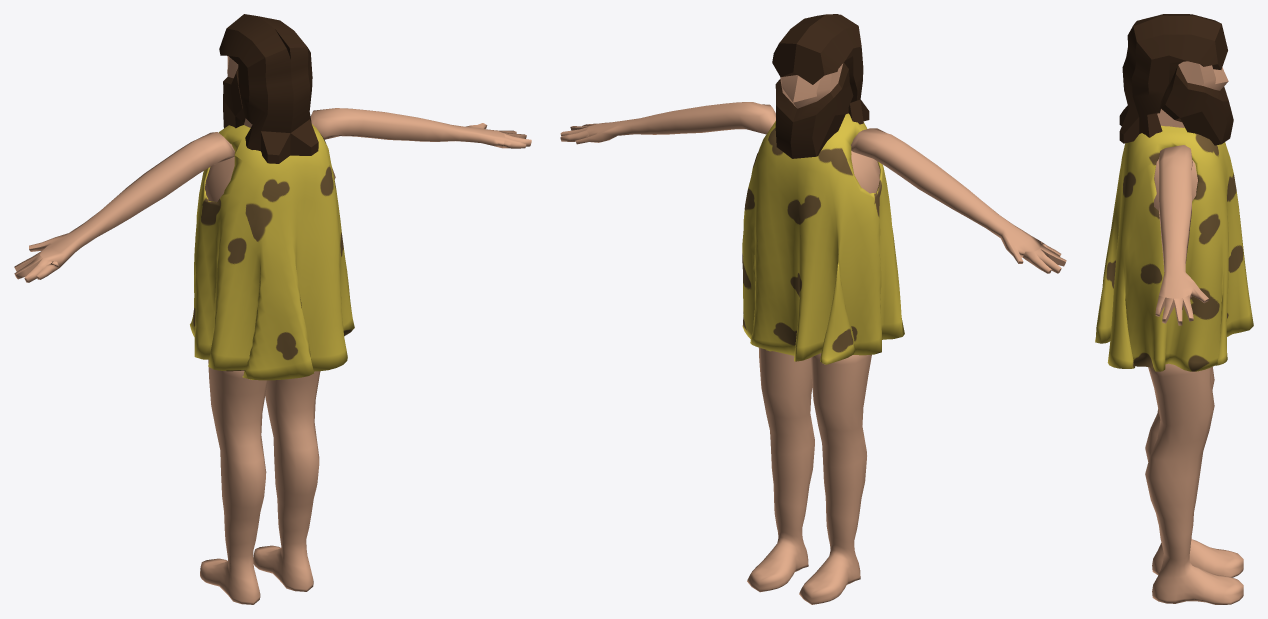
File: caveman_1_mixamo.obj
3 renders of one model, left to right at view 1: azimuth 30°, elevation 25°; view 2: azimuth 150°, elevation 25°; view 3: azimuth 270°, elevation 25°, orthographic. The views are drawn at different scales.
Visible parts, largest first — view 1: Caveman_1_Mixamo; view 2: Caveman_1_Mixamo; view 3: Caveman_1_Mixamo.
Part boxes in pixels (x1,y1,x2,y2): Caveman_1_Mixamo: (14, 14, 531, 604); Caveman_1_Mixamo: (560, 14, 1066, 604); Caveman_1_Mixamo: (1095, 14, 1253, 604).
Size of the model in its own units: 1.74 by 1.85 by 0.4685.
3 materials, 1 textured.
